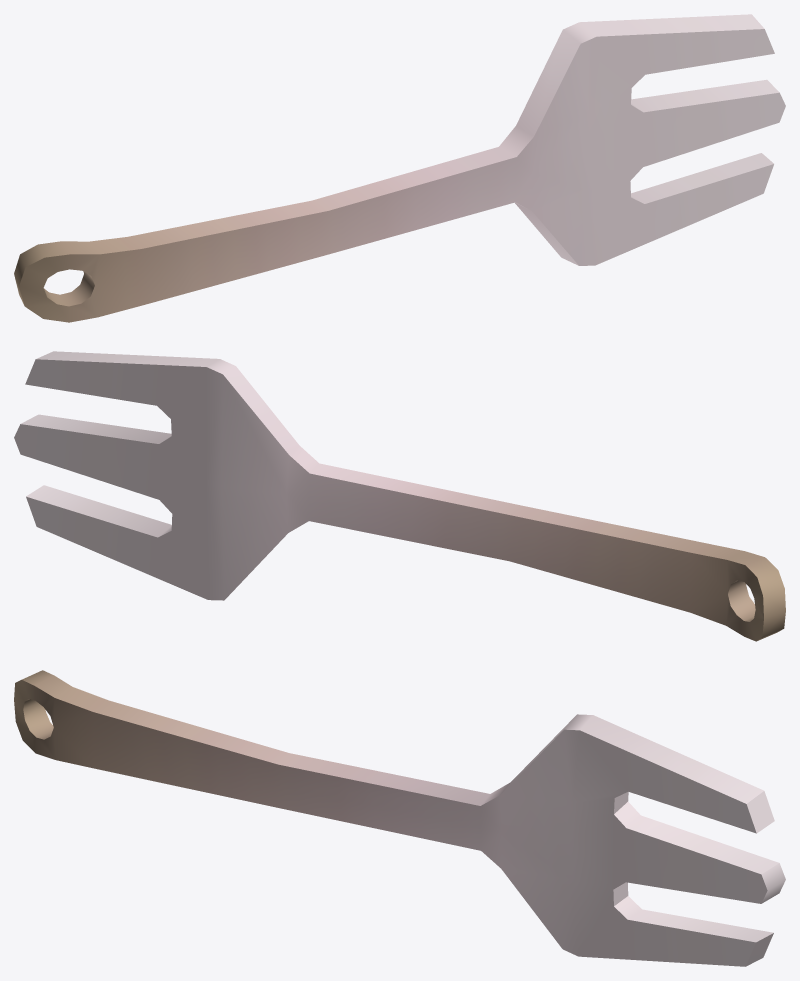
File: weapon_36.FBX
3 renders of one model, top to bottom at view 1: azimuth 30°, elevation 25°; view 2: azimuth 150°, elevation 25°; view 3: azimuth 330°, elevation 25°, orthographic.
Parts seen in each view (by area): view 1: weapon_36; view 2: weapon_36; view 3: weapon_36.
Boxes of the visible parts, x1,y1,x2,y2 form: weapon_36: [14, 14, 785, 322]; weapon_36: [14, 351, 785, 641]; weapon_36: [14, 670, 785, 966].
Size of the model in its own units: 86.93 by 25.43 by 6.88.
1 material, 1 textured.
